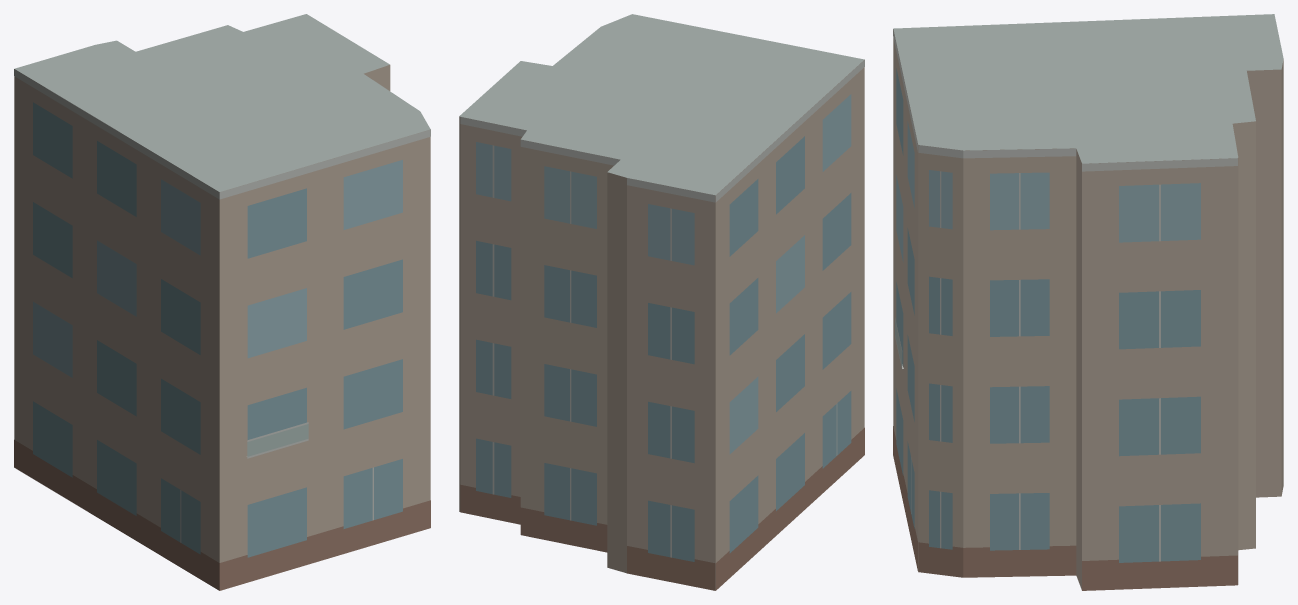
Rendered from survey-upis-32897357.glb.
3 renders of one model, left to right at view 1: azimuth 30°, elevation 25°; view 2: azimuth 150°, elevation 25°; view 3: azimuth 270°, elevation 25°, orthographic. The views are drawn at different scales.
Visible parts, largest first — view 1: survey-upis-32897357.tmp; view 2: survey-upis-32897357.tmp; view 3: survey-upis-32897357.tmp.
Part boxes in pixels (bbox=[...]): survey-upis-32897357.tmp: bbox=[14, 14, 430, 590]; survey-upis-32897357.tmp: bbox=[459, 14, 864, 590]; survey-upis-32897357.tmp: bbox=[893, 14, 1283, 590].
Size of the model in its own units: 9.93 by 13.2 by 10.94.
